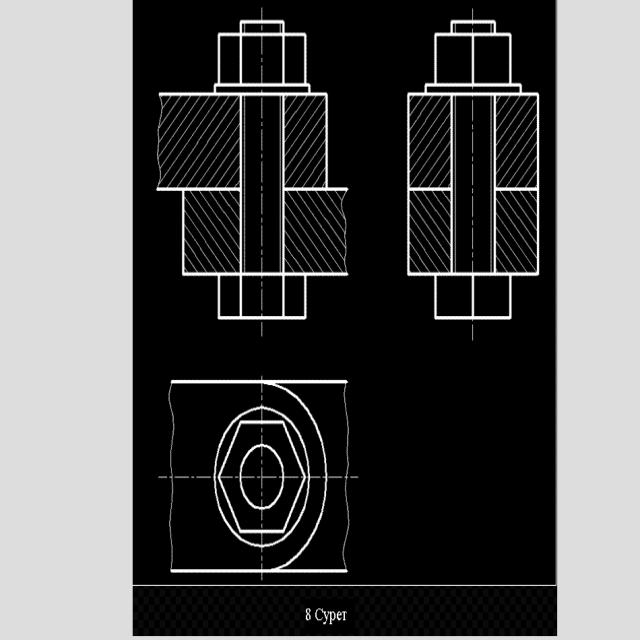numeric: (303, 606, 313, 628)
